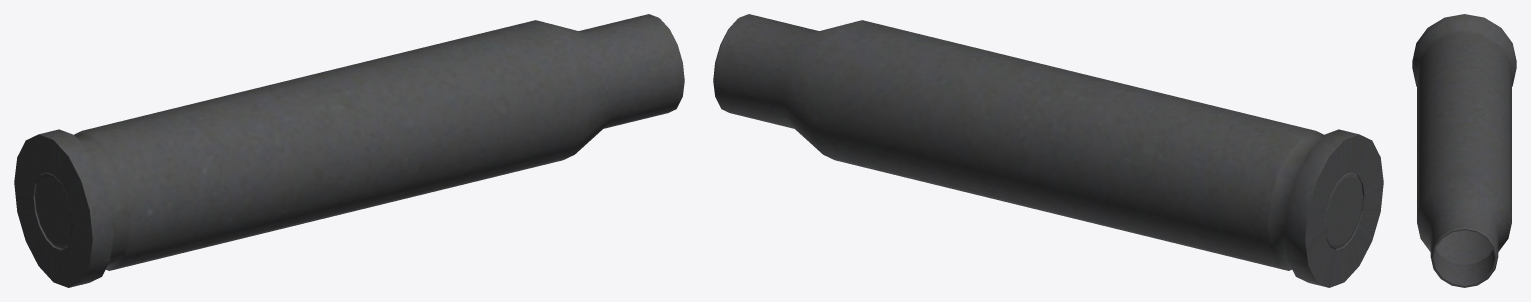
The model's file is Casing4.dae.
The picture shows the model from 3 angles, left to right: view 1: azimuth 30°, elevation 25°; view 2: azimuth 150°, elevation 25°; view 3: azimuth 270°, elevation 25°; orthographic projection. The views are drawn at different scales.
Visible parts, largest first — view 1: Casing4; view 2: Casing4; view 3: Casing4.
Part boxes in pixels (x1=…): Casing4: x1=14, y1=14, x2=684, y2=287; Casing4: x1=713, y1=14, x2=1383, y2=287; Casing4: x1=1412, y1=14, x2=1516, y2=287.
Bounding box in the file's own units: 0.0409 × 0.00916 × 0.00916.
